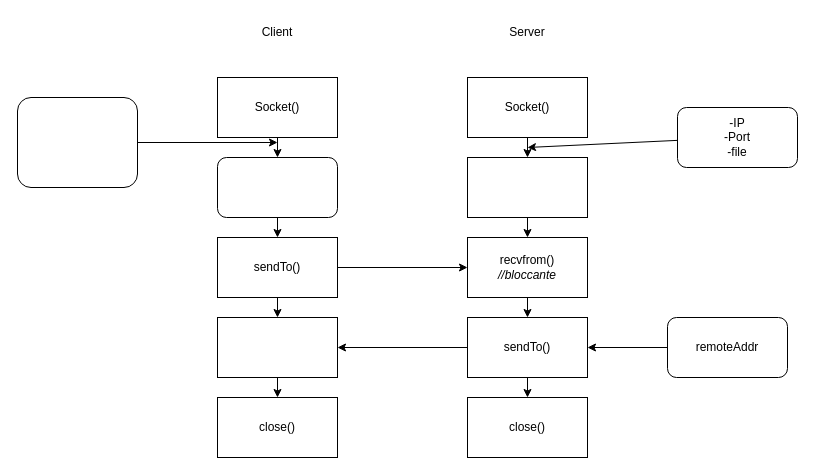
Image size: 815x475. Some labels were removed from this diagram. The shapes that lost their labels are listed below. From the top down, each one's box as (x1, y1, x2, y2) in pixels, then its label:
(16, 96, 138, 188): -IP -Port -numeroOperazione -user -pass
(216, 156, 338, 218): insert()
(466, 156, 588, 218): bind()
(216, 316, 338, 378): recvFrom()
